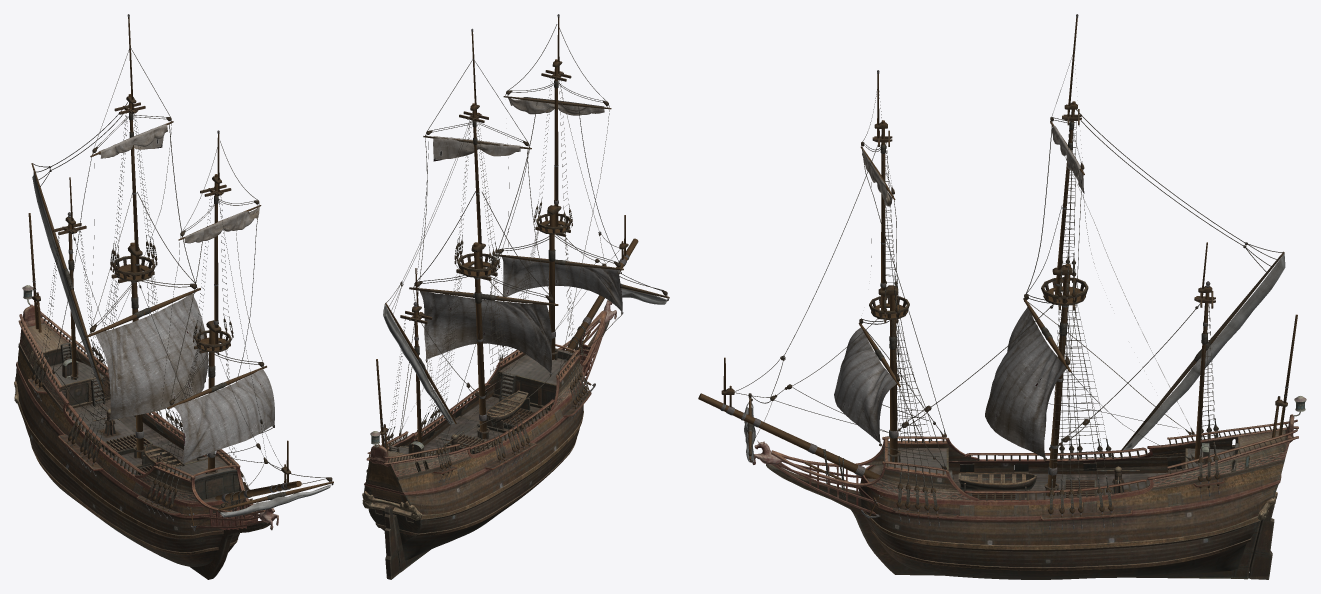
File: old_pirates_ship_a.glb
3 views of the same model, side by side, from view 1: azimuth 30°, elevation 25°; view 2: azimuth 150°, elevation 25°; view 3: azimuth 270°, elevation 25° (orthographic). The views are drawn at different scales.
Parts seen in each view (by area): view 1: dutch_ship_medium_hull, dutch_ship_medium_rigging, dutch_ship_medium_sails; view 2: dutch_ship_medium_hull, dutch_ship_medium_rigging, dutch_ship_medium_sails; view 3: dutch_ship_medium_hull, dutch_ship_medium_rigging, dutch_ship_medium_sails.
Part boxes in pixels (x1=…): dutch_ship_medium_hull: x1=14, y1=285, x2=278, y2=579; dutch_ship_medium_rigging: x1=28, y1=14, x2=333, y2=531; dutch_ship_medium_sails: x1=95, y1=124, x2=274, y2=462; dutch_ship_medium_hull: x1=362, y1=300, x2=616, y2=579; dutch_ship_medium_rigging: x1=376, y1=14, x2=669, y2=482; dutch_ship_medium_sails: x1=420, y1=97, x2=622, y2=372; dutch_ship_medium_hull: x1=752, y1=396, x2=1306, y2=579; dutch_ship_medium_rigging: x1=698, y1=14, x2=1297, y2=529; dutch_ship_medium_sails: x1=834, y1=126, x2=1084, y2=457.
Size of the model in its own units: 6.81 by 24.66 by 24.07.
Materials: 3 (3 with a texture image).
